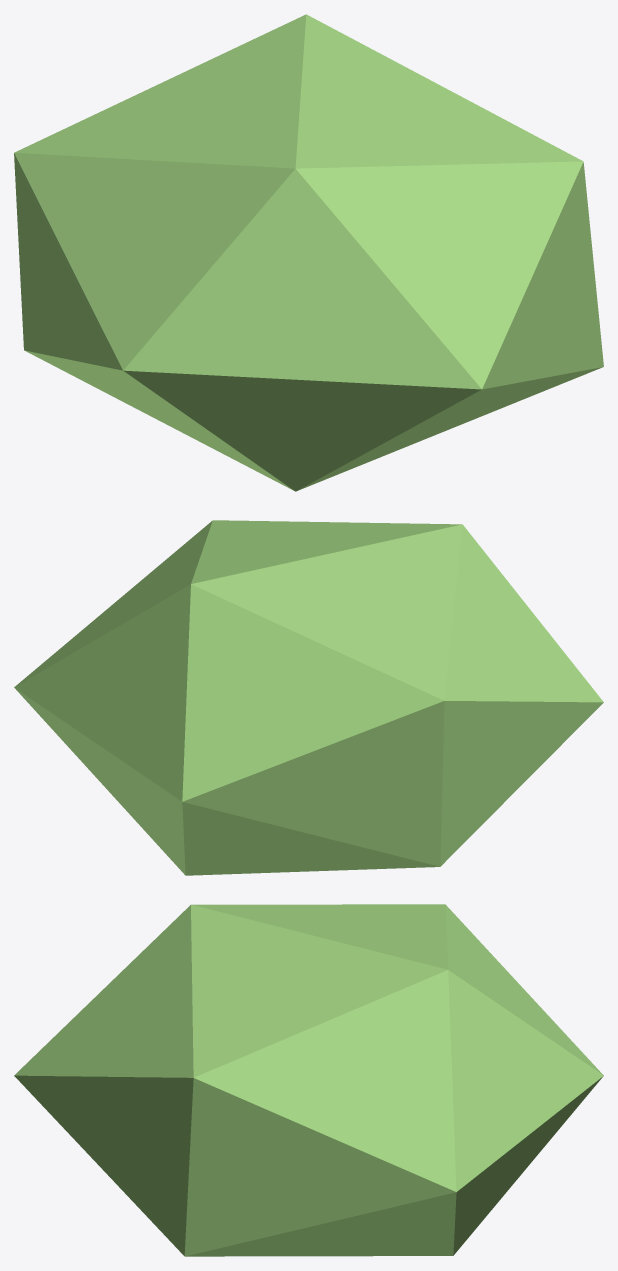
File: arbusto_0_lod.fbx
3 views of the same model, one above another, from view 1: azimuth 30°, elevation 25°; view 2: azimuth 150°, elevation 25°; view 3: azimuth 270°, elevation 25° (orthographic). The views are drawn at different scales.
Parts seen in each view (by area): view 1: arbusto_0_lod~Folhagem@leaf; view 2: arbusto_0_lod~Folhagem@leaf; view 3: arbusto_0_lod~Folhagem@leaf.
Boxes of the visible parts, left/top/right/bottom form: arbusto_0_lod~Folhagem@leaf: left=14, top=14, right=603, bottom=491; arbusto_0_lod~Folhagem@leaf: left=14, top=520, right=603, bottom=875; arbusto_0_lod~Folhagem@leaf: left=14, top=904, right=603, bottom=1256.
Bounding box in the file's own units: 1.45 × 0.8819 × 1.66.
